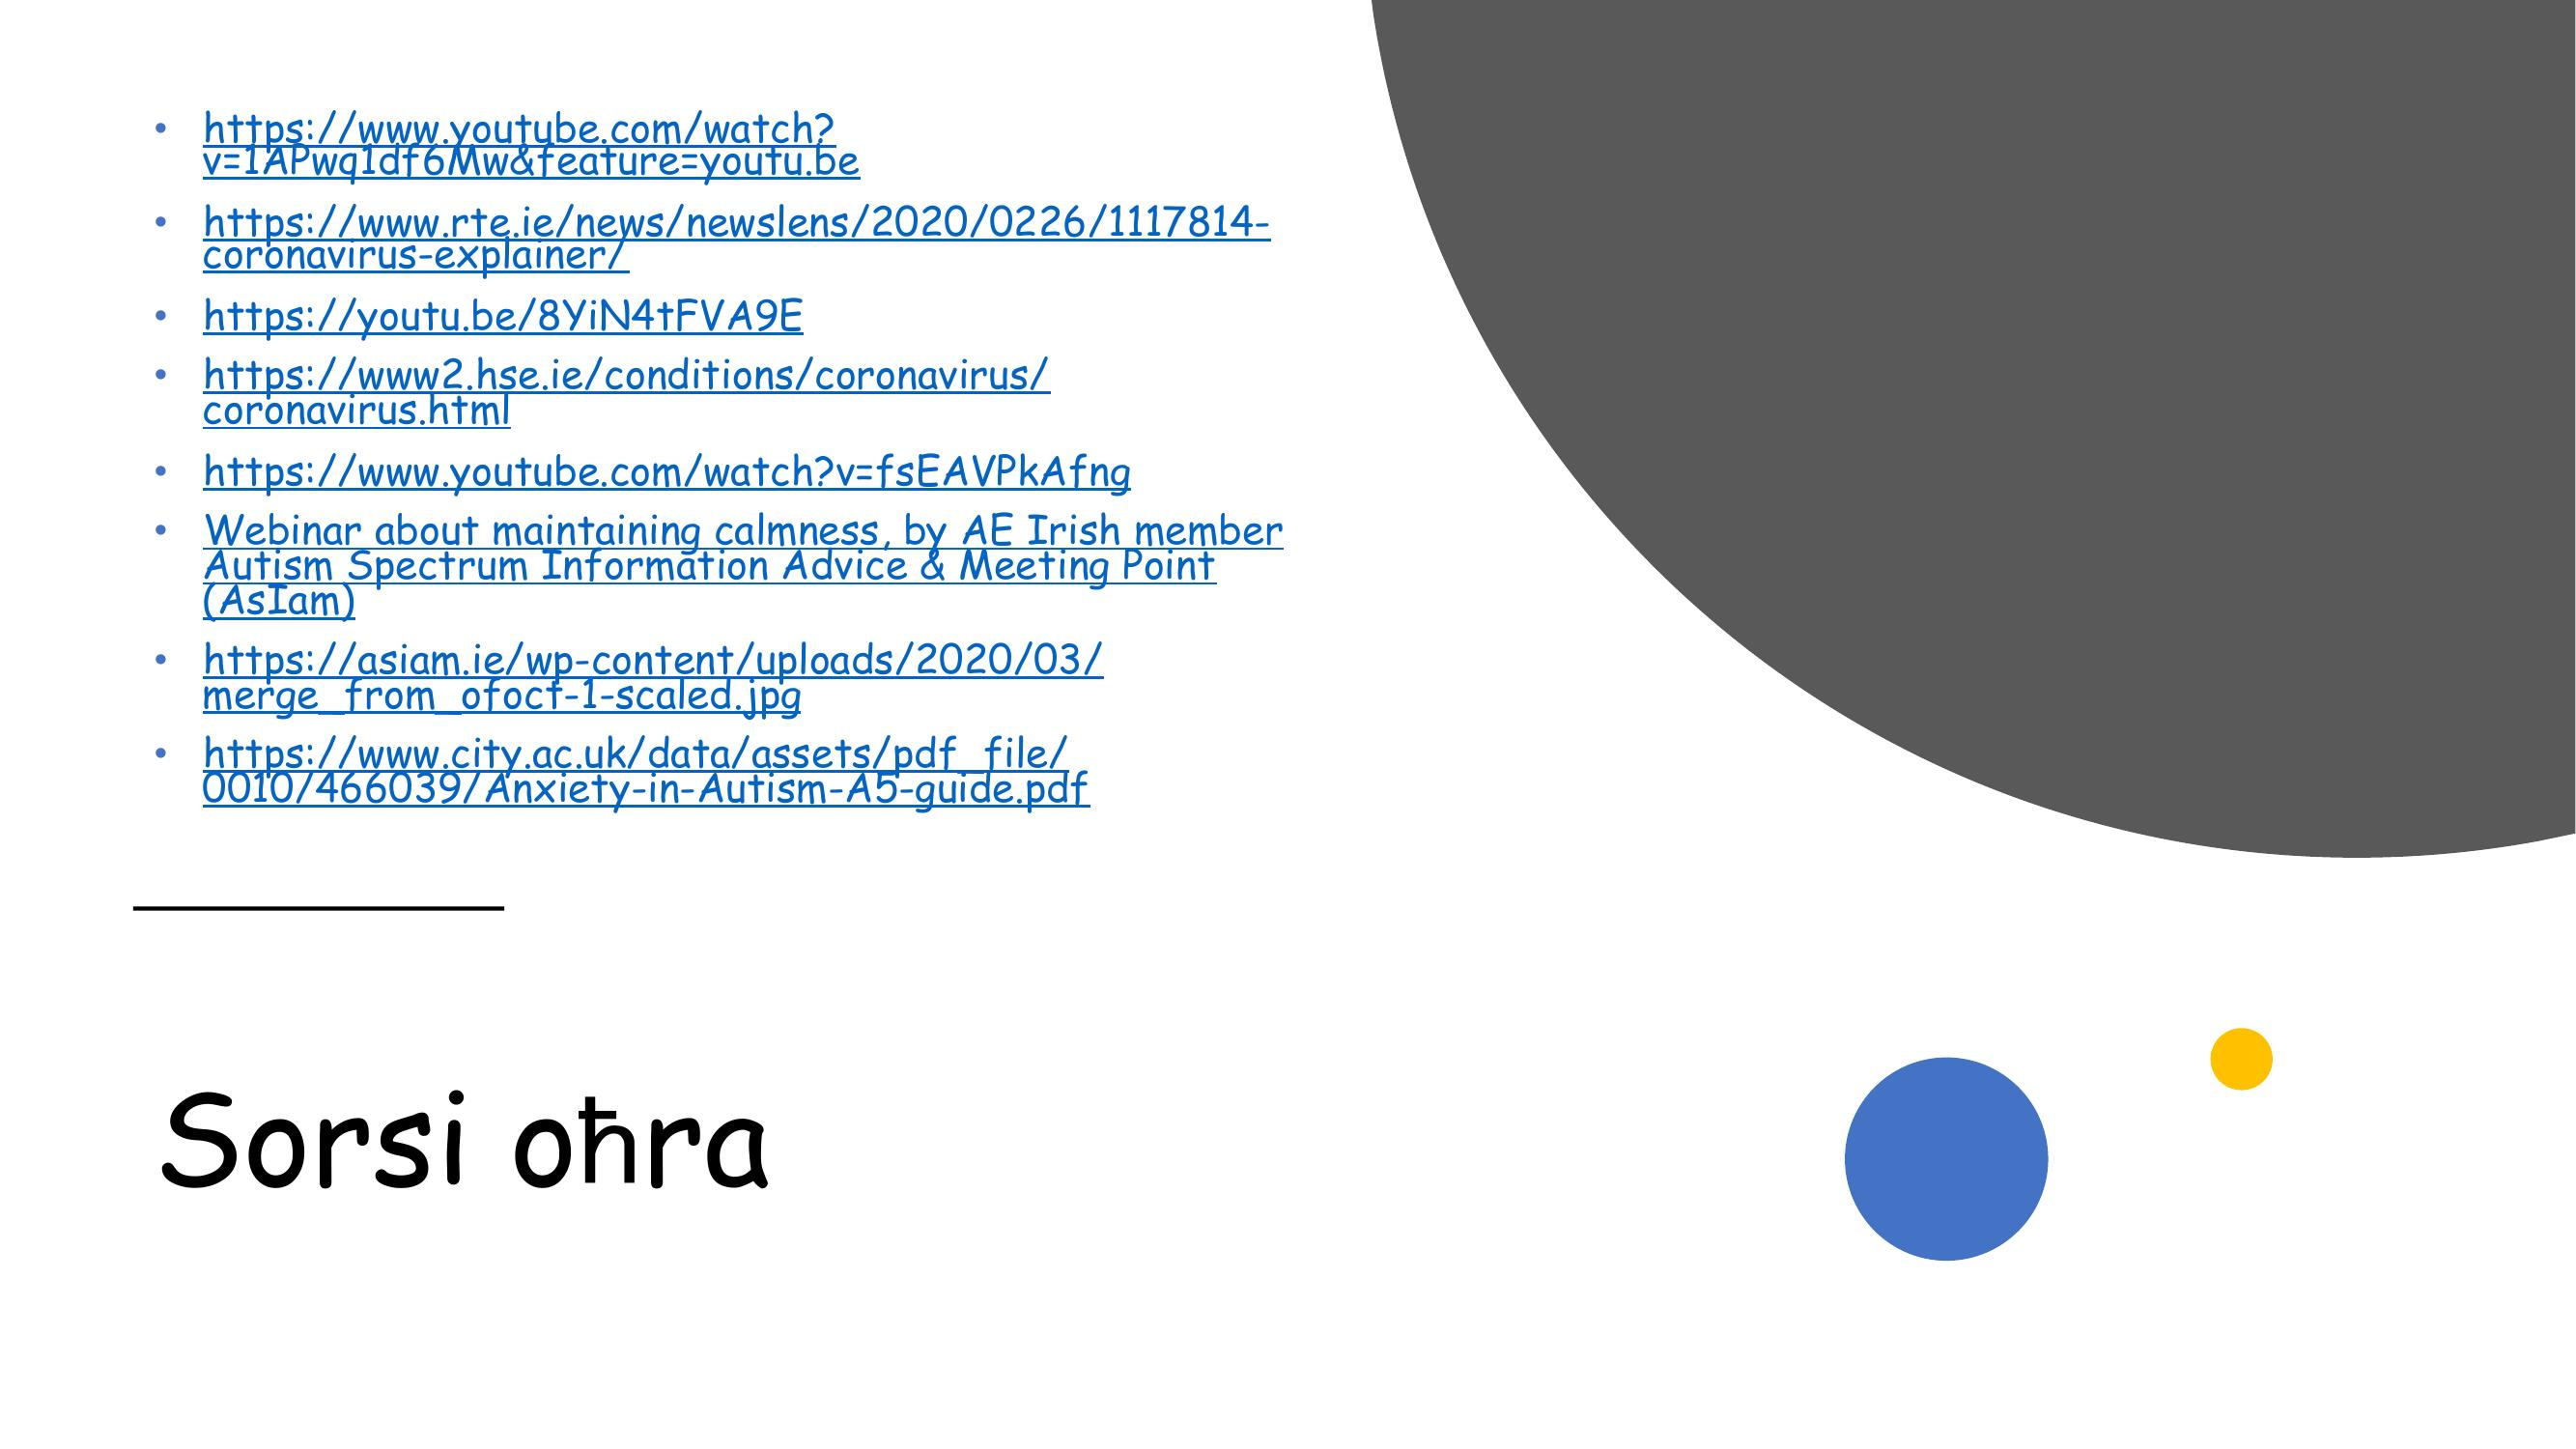text: (134, 1031, 794, 1244)
